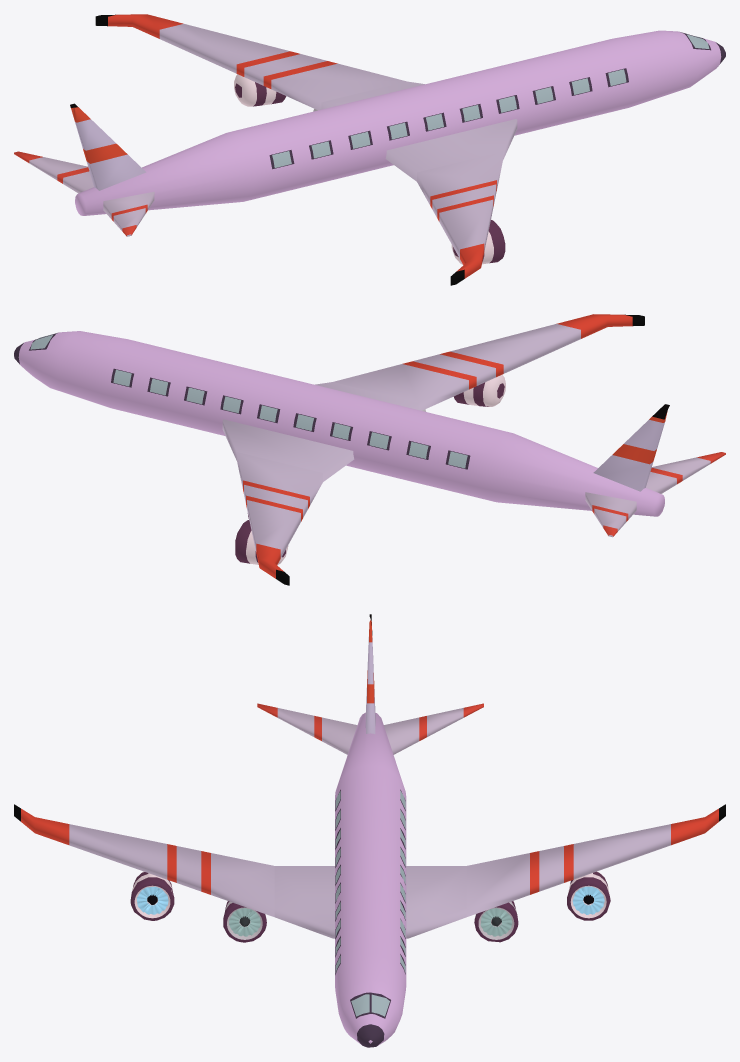
3 views of the same model, one above another, from view 1: azimuth 30°, elevation 25°; view 2: azimuth 150°, elevation 25°; view 3: azimuth 270°, elevation 25° (orthographic).
Visible parts, largest first — view 1: Cylinder; view 2: Cylinder, Cube.003; view 3: Cylinder.
Part boxes in pixels (x1,y1,x2,y2): Cylinder: (14,14,725,278); Cylinder: (14,314,725,578); Cube.003: (276,314,669,585); Cylinder: (21,620,718,1047).
Bounding box in the file's own units: 20.12 × 4.64 × 18.89.
Materials: 2 (2 with a texture image).
